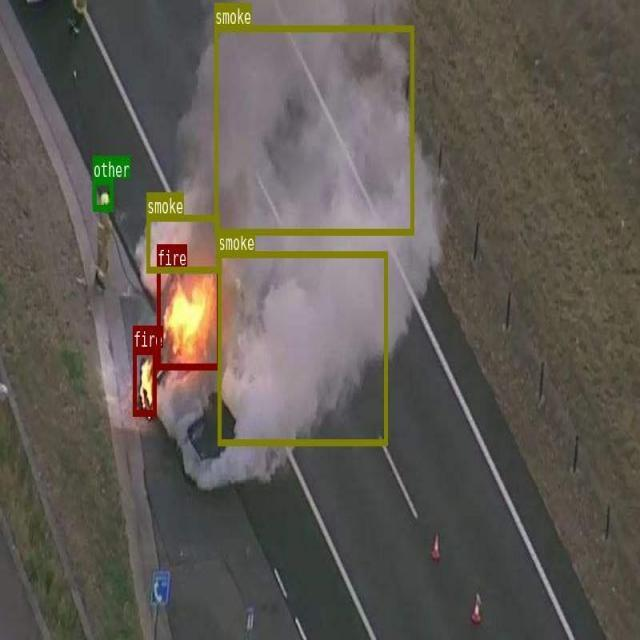fire: (157, 266, 219, 369), (132, 347, 156, 415)
smoke: (214, 24, 413, 234), (218, 250, 387, 444), (146, 214, 218, 272)
